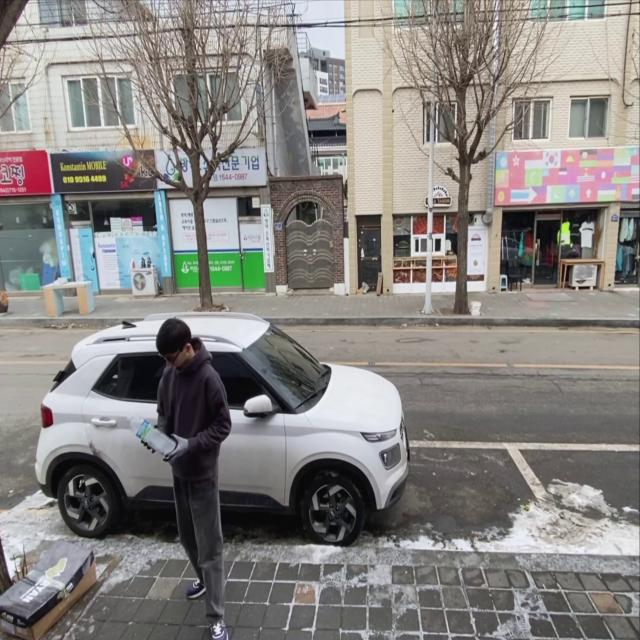gloved_hand: (162, 432, 190, 465)
